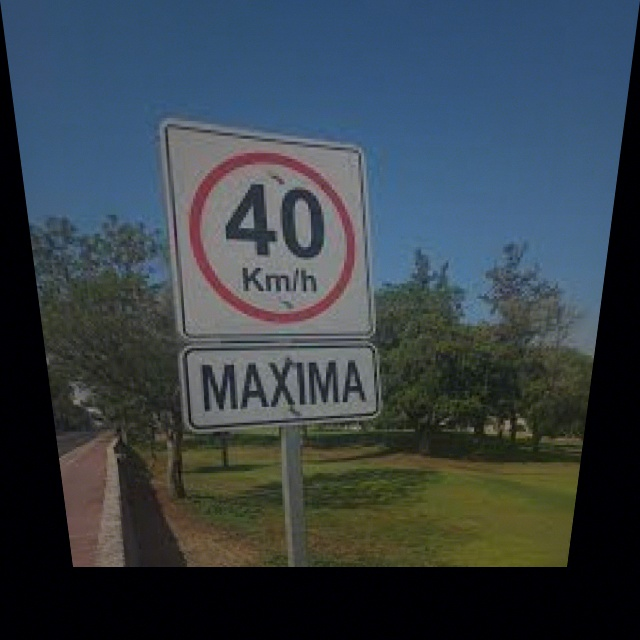Speed_Limit_40: (178, 136, 371, 333)
